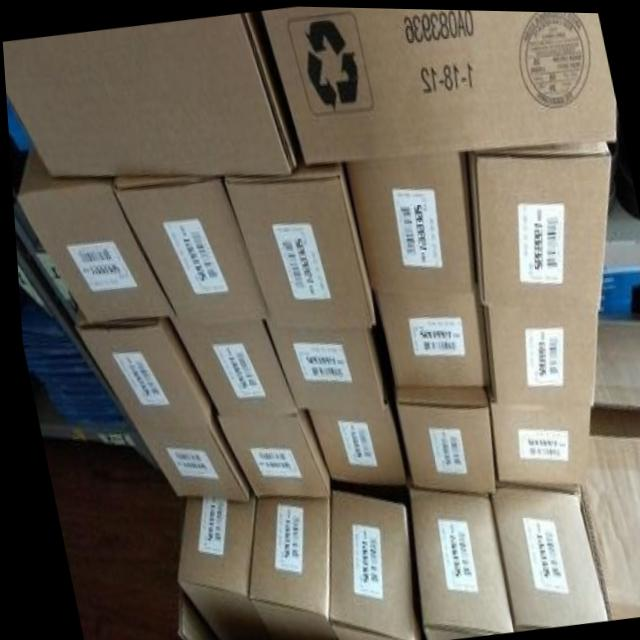box: (261, 5, 615, 163), (2, 11, 297, 177), (16, 143, 172, 324), (222, 161, 371, 329), (466, 141, 610, 306), (111, 175, 264, 322), (573, 317, 640, 618), (344, 152, 473, 291), (484, 484, 601, 630), (72, 311, 206, 427), (403, 489, 504, 640), (320, 487, 414, 640), (168, 497, 259, 640), (242, 499, 329, 640), (168, 318, 293, 415), (479, 301, 594, 403), (390, 384, 490, 493), (261, 321, 379, 411), (373, 289, 483, 383), (132, 407, 243, 500), (481, 388, 585, 486), (213, 410, 324, 499), (304, 390, 402, 487)
